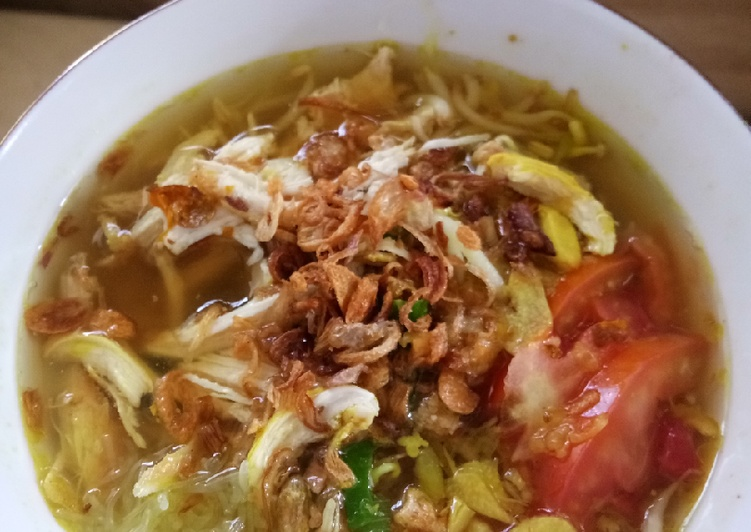soto: (24, 41, 738, 517)
